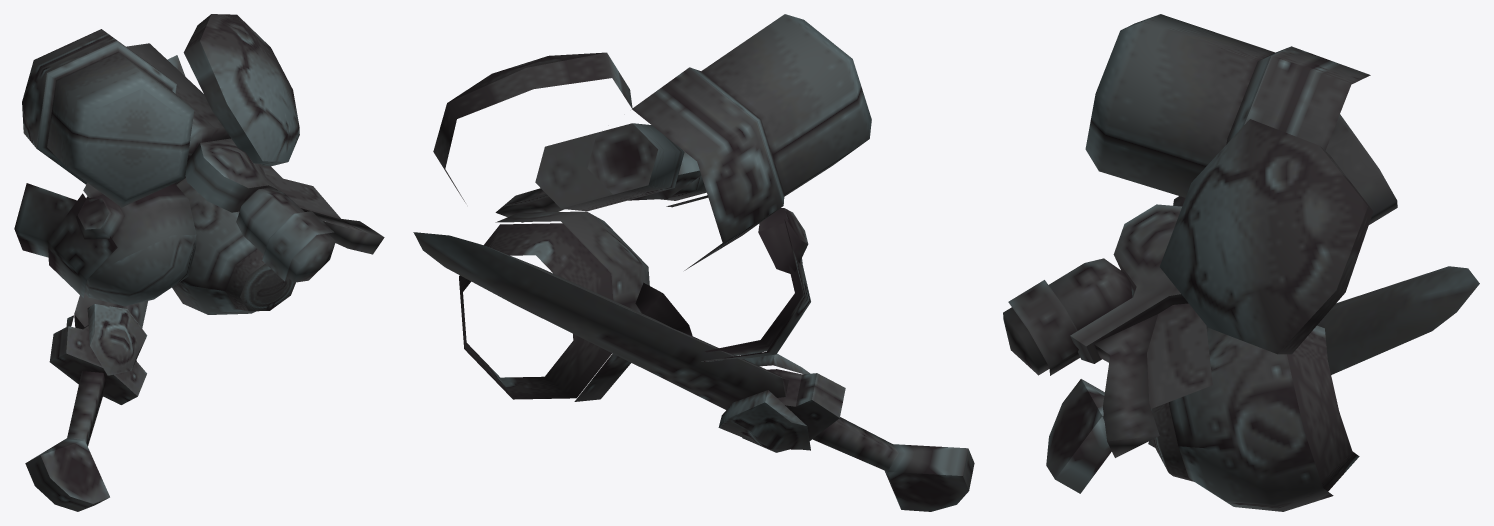
File: toughbox_contents_gear.glb
3 views of the same model, side by side, from view 1: azimuth 30°, elevation 25°; view 2: azimuth 150°, elevation 25°; view 3: azimuth 270°, elevation 25° (orthographic). The views are drawn at different scales.
Parts seen in each view (by area): view 1: knights.toughbox_contents_gear-Mesh[0]; view 2: knights.toughbox_contents_gear-Mesh[0]; view 3: knights.toughbox_contents_gear-Mesh[0].
Boxes of the visible parts, x1,y1,x2,y2 form: knights.toughbox_contents_gear-Mesh[0]: (14, 14, 384, 511); knights.toughbox_contents_gear-Mesh[0]: (413, 14, 974, 511); knights.toughbox_contents_gear-Mesh[0]: (1003, 14, 1479, 511).
Bounding box in the file's own units: 1.16 × 1.23 × 1.04.
Materials: 1 (1 with a texture image).
